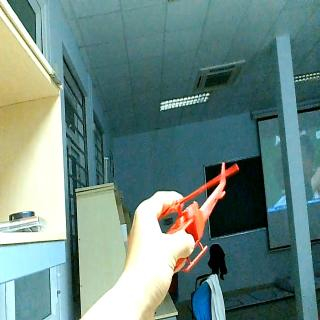Helicopter: (168, 161, 240, 274)
